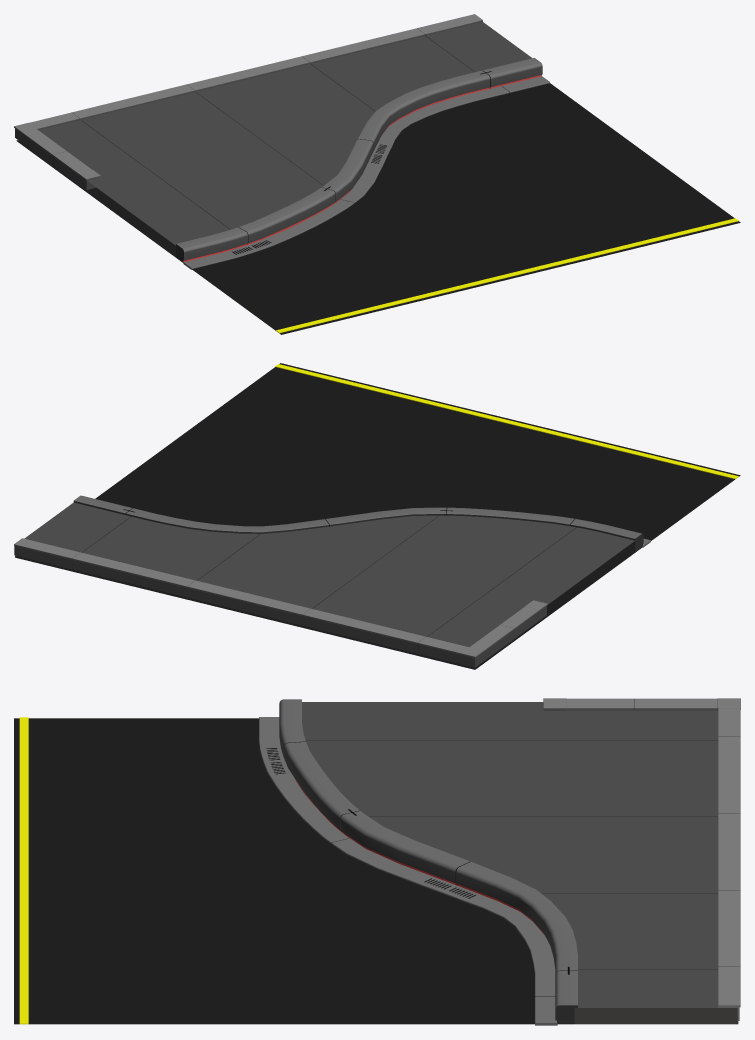
3 renders of one model, top to bottom at view 1: azimuth 30°, elevation 25°; view 2: azimuth 150°, elevation 25°; view 3: azimuth 270°, elevation 25°, orthographic. The views are drawn at different scales.
Parts seen in each view (by area): view 1: W_R_001_8x8_AB; view 2: W_R_001_8x8_AB; view 3: W_R_001_8x8_AB.
Boxes of the visible parts, x1,y1,x2,y2 form: W_R_001_8x8_AB: [14, 14, 740, 334]; W_R_001_8x8_AB: [14, 363, 740, 669]; W_R_001_8x8_AB: [14, 698, 740, 1025].
Bounding box in the file's own units: 8.02 × 0.2475 × 8.03.
